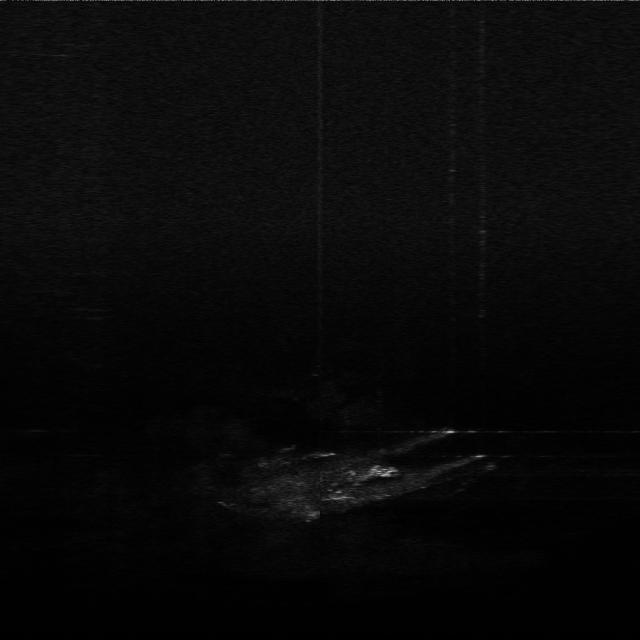rov: (369, 461, 397, 481)
